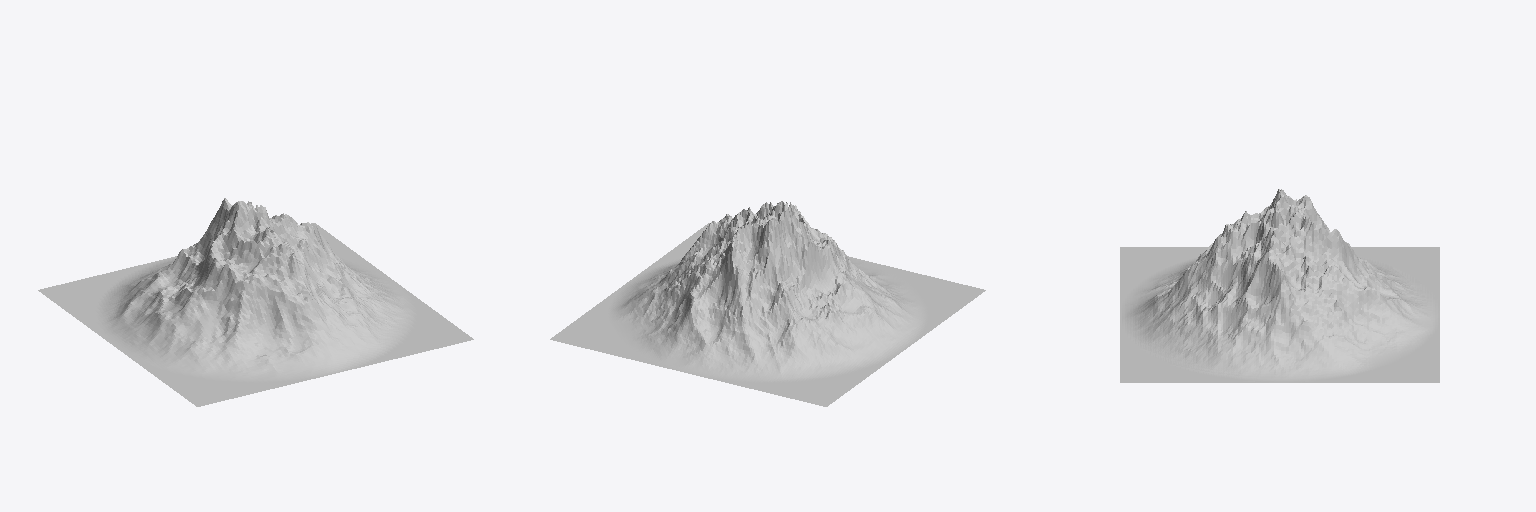
Rendered from Mountain5.obj.
3 renders of one model, left to right at view 1: azimuth 30°, elevation 25°; view 2: azimuth 150°, elevation 25°; view 3: azimuth 270°, elevation 25°, orthographic.
Visible parts, largest first — view 1: Mountain5_Landscape.018; view 2: Mountain5_Landscape.018; view 3: Mountain5_Landscape.018.
Part boxes in pixels (bbox=[...]): Mountain5_Landscape.018: bbox=[38, 198, 473, 406]; Mountain5_Landscape.018: bbox=[550, 201, 985, 406]; Mountain5_Landscape.018: bbox=[1120, 189, 1439, 382].
Bounding box in the file's own units: 16.89 × 6.86 × 16.89.